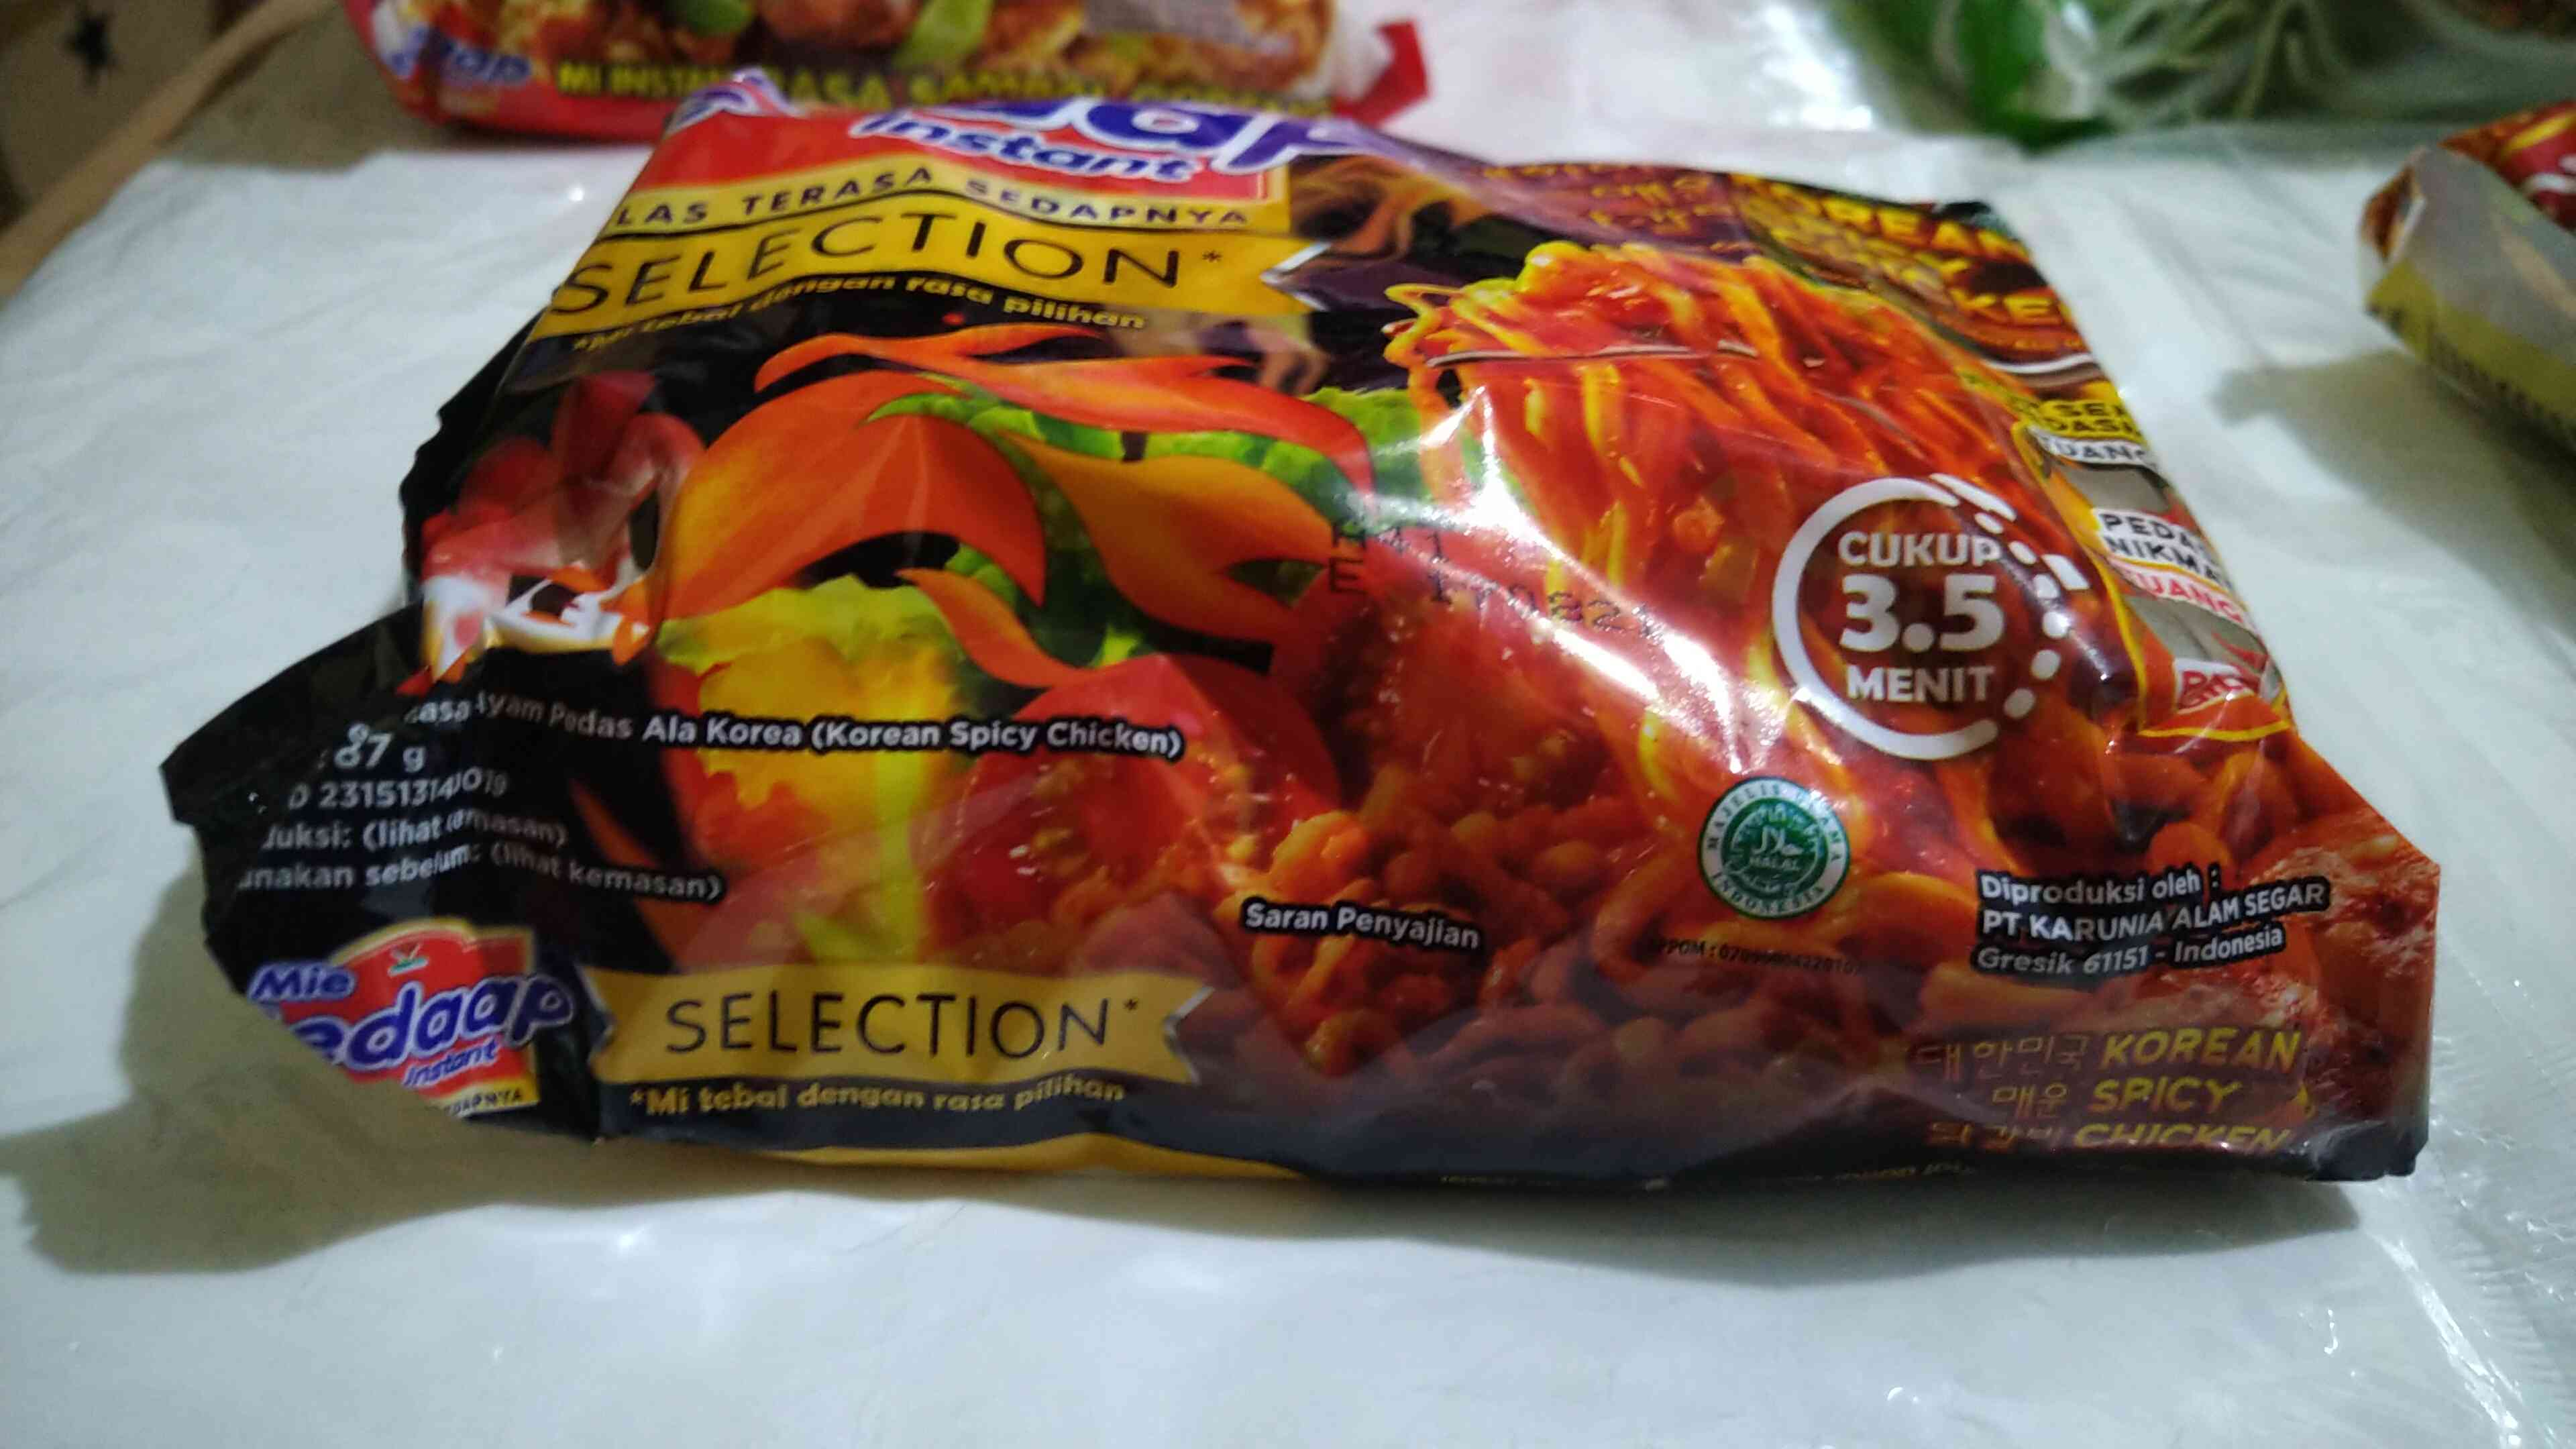sedaap spicy: (242, 57, 2502, 1336)
